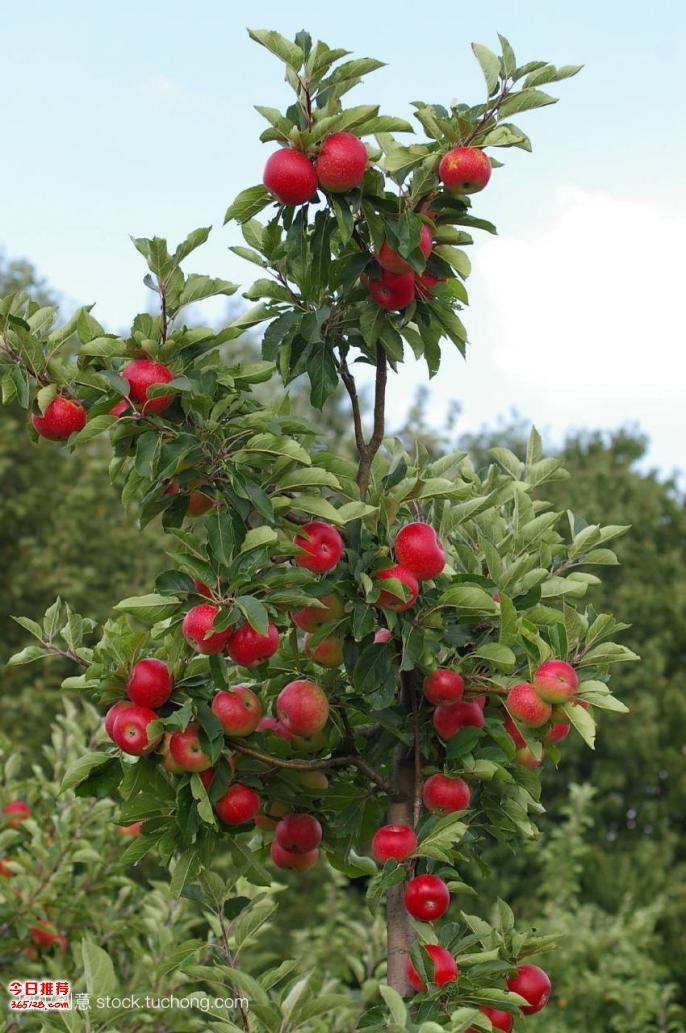apple: (261, 150, 317, 208), (393, 523, 447, 581), (268, 814, 321, 873), (314, 134, 365, 194), (276, 678, 326, 733), (213, 682, 263, 737), (117, 357, 176, 402), (225, 621, 279, 668), (292, 523, 341, 574), (437, 148, 490, 195), (30, 397, 85, 442), (112, 707, 162, 756), (364, 262, 413, 312), (371, 823, 419, 869), (505, 965, 549, 1015), (171, 725, 217, 772), (531, 659, 577, 706), (420, 775, 470, 817), (505, 684, 550, 729), (126, 660, 171, 705), (404, 875, 448, 920), (216, 783, 260, 828), (435, 698, 482, 740), (422, 668, 463, 706)
